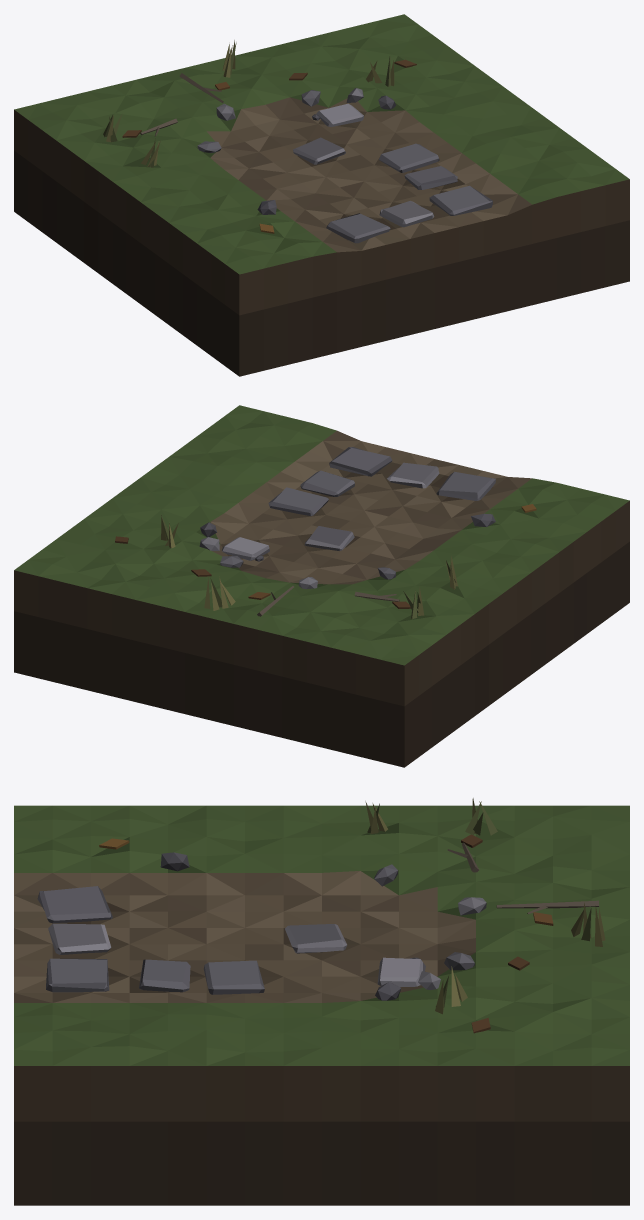
Rendered from haunt_road_end.glb.
3 views of the same model, one above another, from view 1: azimuth 30°, elevation 25°; view 2: azimuth 150°, elevation 25°; view 3: azimuth 270°, elevation 25° (orthographic). The views are drawn at different scales.
Parts seen in each view (by area): view 1: HauntRoadEnd; view 2: HauntRoadEnd; view 3: HauntRoadEnd.
Part boxes in pixels (x1,y1,x2,y2): HauntRoadEnd: [14, 14, 629, 376]; HauntRoadEnd: [14, 405, 629, 767]; HauntRoadEnd: [14, 798, 629, 1205].
Bounding box in the file's own units: 2 × 0.6422 × 2.
